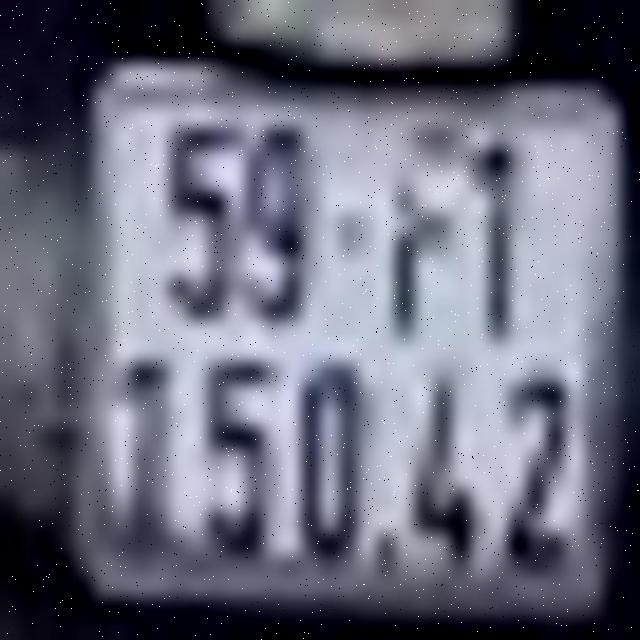0: (296, 357, 364, 562)
1: (118, 353, 173, 556), (471, 141, 518, 344)
2: (503, 373, 572, 572)
4: (412, 371, 479, 568)
5: (162, 118, 241, 323), (203, 353, 277, 560)
9: (244, 122, 311, 325)
P: (389, 134, 461, 339)
